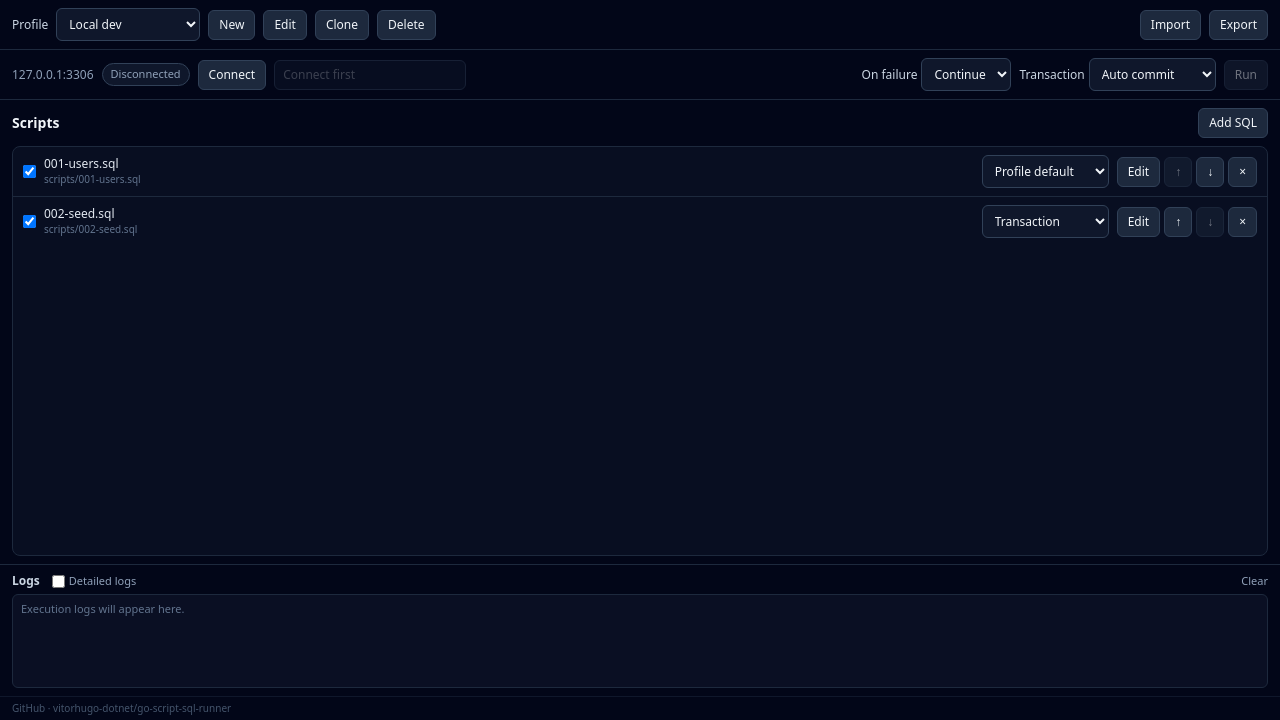
Test case: main runner workspace › requires named confirmation and Cancel never deletes
The image size is (1280, 720).
Expected: the text "001-users.sql" is shown, top-left (44, 155), bottom-right (118, 172)
Click the button "Delete".
click(406, 24)  # box top-left (377, 10), bottom-right (436, 40)
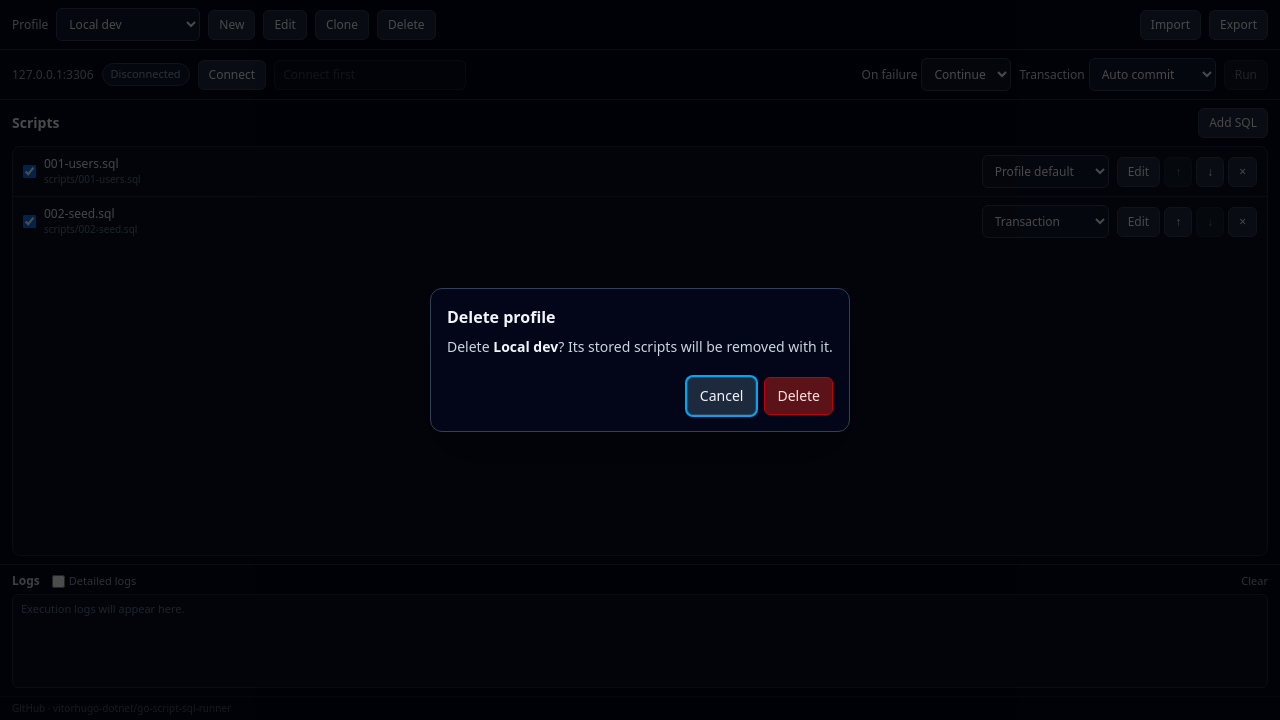
Now the text "Local dev" is shown, box top-left (493, 337), bottom-right (558, 356)
Click the button "Cancel".
click(722, 396)  # box top-left (687, 377), bottom-right (756, 415)
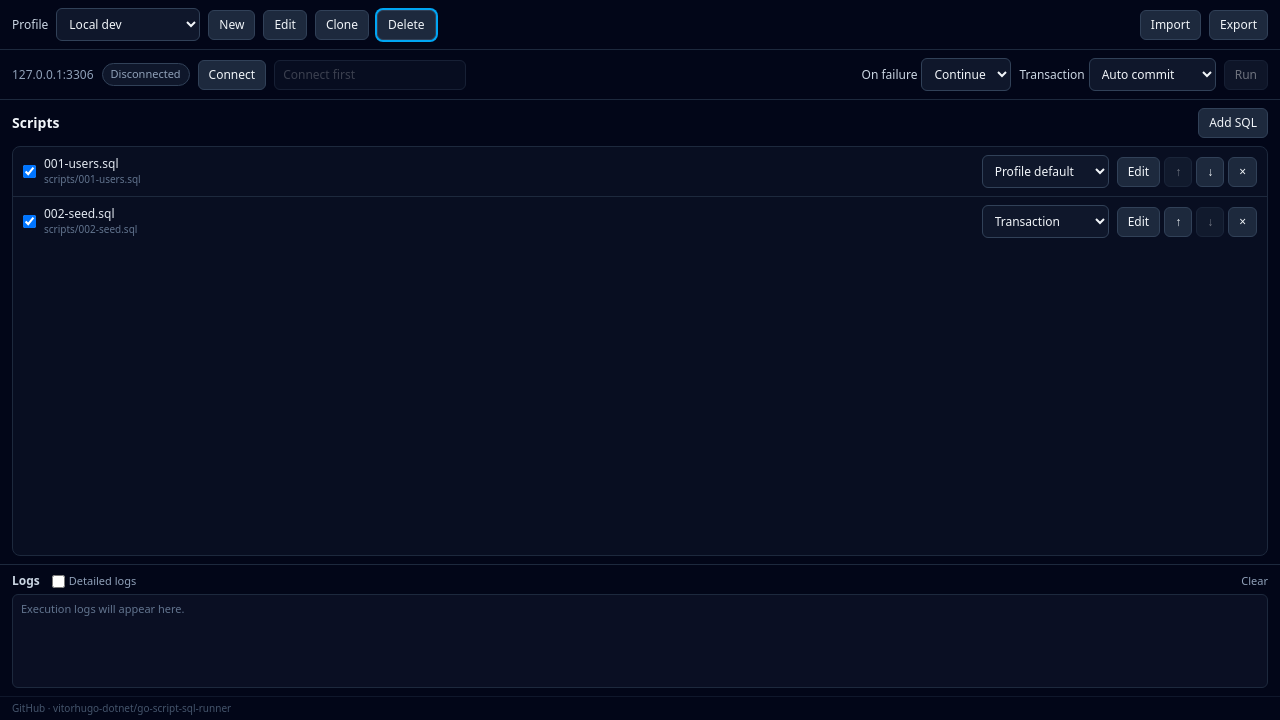
Now the dialog is gone
